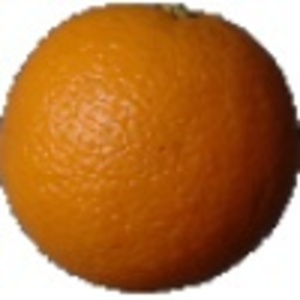laranja: (1, 2, 297, 296)
